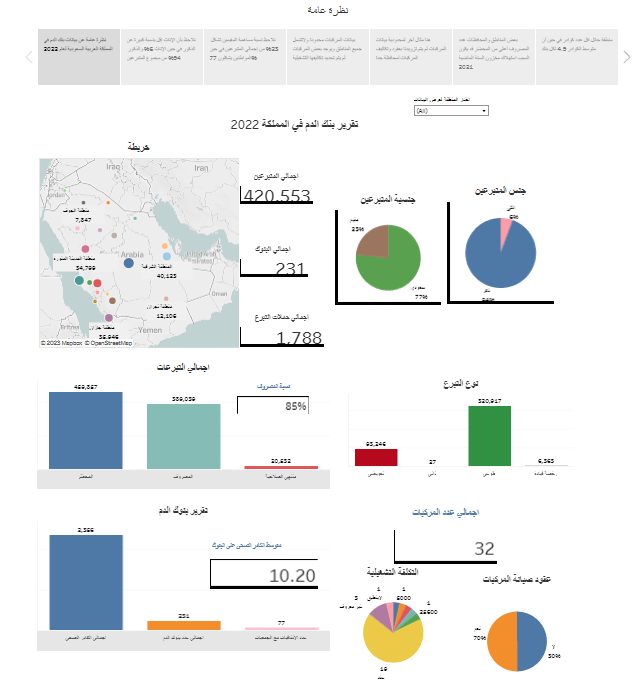

What the dashboard file says about the page in this screenshot:
{"tool":"tableau","page":{"name":"تقرير بنك الدم في المملكة 2022","canvas":[1200,1300],"ordinal":0},"visuals":[{"type":"filter","title":"خريطة","param":"[federated.0k9tpsz0huajs91e6mue71gbohsy].[none:المنطقة:nk]","box":[770.9,10.1,151.7,63.3]},{"type":"title","box":[307.8,25.9,449.1,83.4]},{"type":"worksheet","title":"خريطة","mark":"Automatic","box":[21,92,401,423]},{"type":"worksheet","title":"اجمالي المتبرعين","mark":"Automatic","box":[422.9,152.5,157.1,136.8]},{"type":"worksheet","title":"جنس المتبرعين","mark":"Pie","box":[837.6,179.2,219.7,415]},{"type":"worksheet","title":"جنسية المتبرعين","mark":"Pie","box":[612.8,196.5,227.9,380.4]},{"type":"worksheet","title":"اجمالي البنوك","mark":"Automatic","box":[422.9,298.7,160.1,190.2]},{"type":"worksheet","title":"اجمالي حملات التبرع","mark":"Automatic","box":[422.9,435.4,173.5,138.3]},{"type":"worksheet","title":"اجمالي التبرعات","mark":"Automatic","box":[17,533,586,264]},{"type":"worksheet","title":"نوع التبرع","mark":"Automatic","box":[639,564,453,232]},{"type":"worksheet","title":"نسبة المصروف","mark":"Text","box":[418,577,162,155]},{"type":"worksheet","title":"اجمالي عدد المركبات","mark":"Automatic","box":[731.9,808.2,244.3,226.4]},{"type":"worksheet","title":"تقرير بنوك الدم","mark":"Automatic","box":[18,818,585,302]},{"type":"worksheet","title":"متوسط الكادر الصحي على البنوك","mark":"Automatic","box":[364,884,245,170]}]}

Visuals, with their boxes in screenshot pixels (x1, y1, x2, y2), scaled from the page's 1200x1300 canvas onto the 640x699 screenshot:
"خريطة" filter: [x1=411, y1=5, x2=492, y2=39]
title: [x1=164, y1=14, x2=404, y2=59]
"خريطة" worksheet: [x1=11, y1=49, x2=225, y2=277]
"اجمالي المتبرعين" worksheet: [x1=226, y1=82, x2=309, y2=156]
"جنس المتبرعين" worksheet (Pie marks): [x1=447, y1=96, x2=564, y2=319]
"جنسية المتبرعين" worksheet (Pie marks): [x1=327, y1=106, x2=448, y2=310]
"اجمالي البنوك" worksheet: [x1=226, y1=161, x2=311, y2=263]
"اجمالي حملات التبرع" worksheet: [x1=226, y1=234, x2=318, y2=308]
"اجمالي التبرعات" worksheet: [x1=9, y1=287, x2=322, y2=429]
"نوع التبرع" worksheet: [x1=341, y1=303, x2=582, y2=428]
"نسبة المصروف" worksheet (Text marks): [x1=223, y1=310, x2=309, y2=394]
"اجمالي عدد المركبات" worksheet: [x1=390, y1=435, x2=521, y2=556]
"تقرير بنوك الدم" worksheet: [x1=10, y1=440, x2=322, y2=602]
"متوسط الكادر الصحي على البنوك" worksheet: [x1=194, y1=475, x2=325, y2=567]
